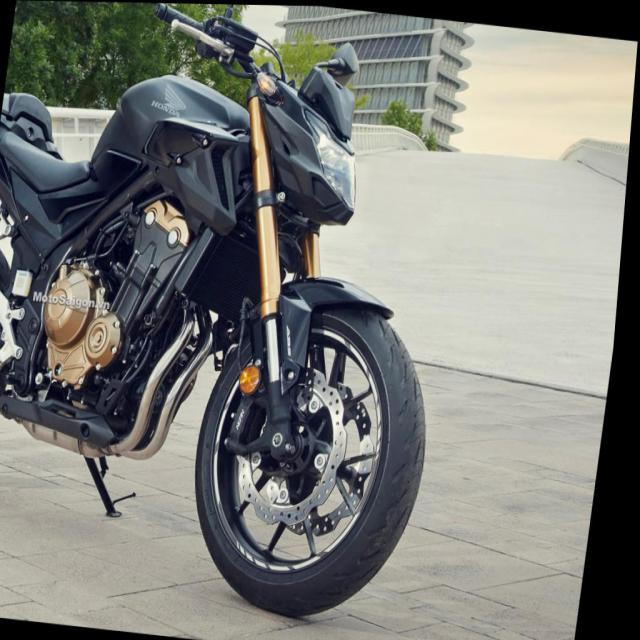CB500F: (0, 0, 486, 629)
